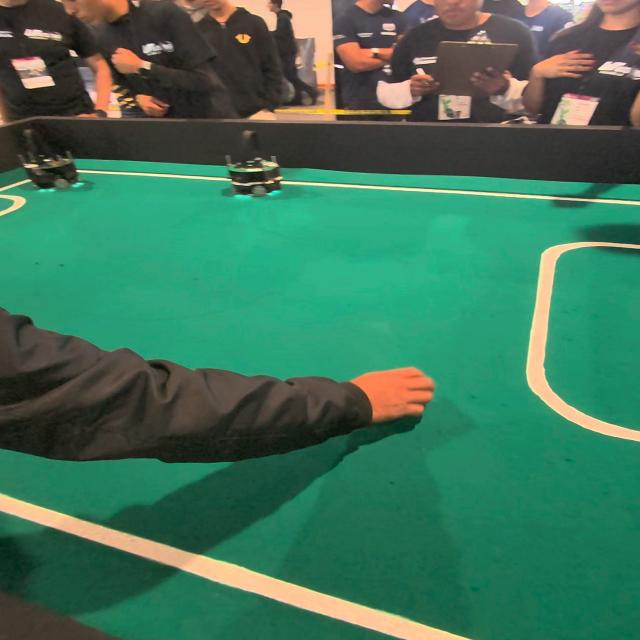Robot: (215, 124, 298, 202), (11, 116, 86, 201)
